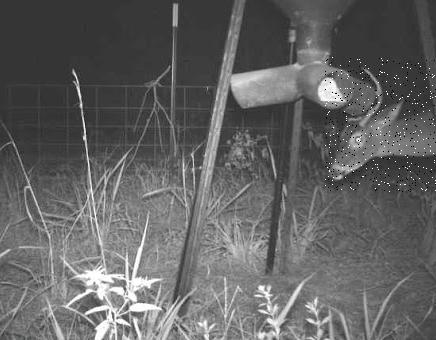Deer: (325, 57, 436, 192)
